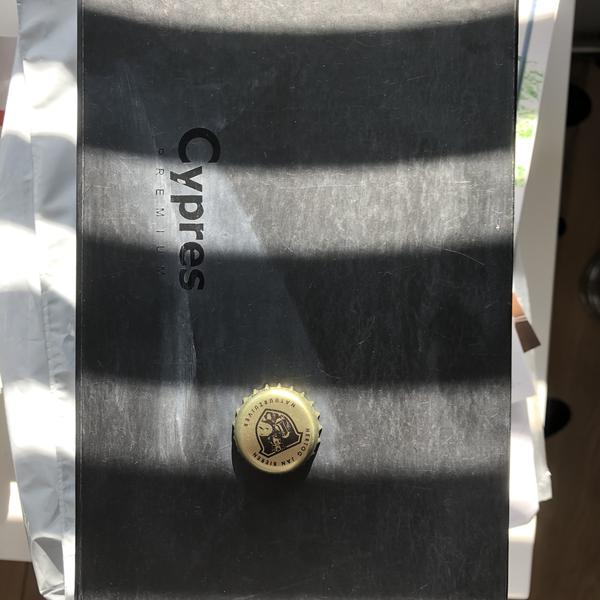hertogjan: (231, 382, 324, 482)
